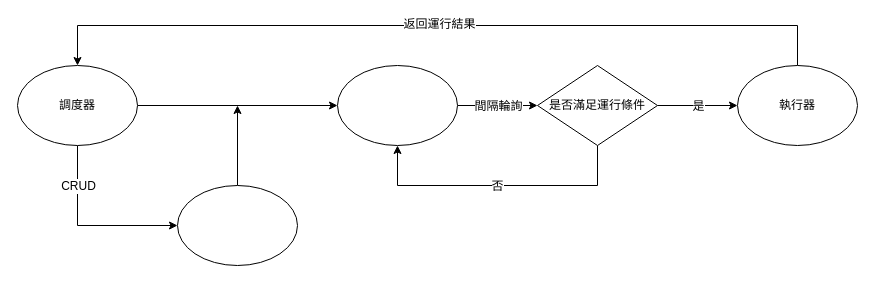
This 875x283 diagram has some shape labels left out. The shapes that lost their labels are listed below. From the top down, each one's centre as x and y in pixels, then its label:
the point at 397,105: 處發器
the point at 237,225: 任務儲存器
